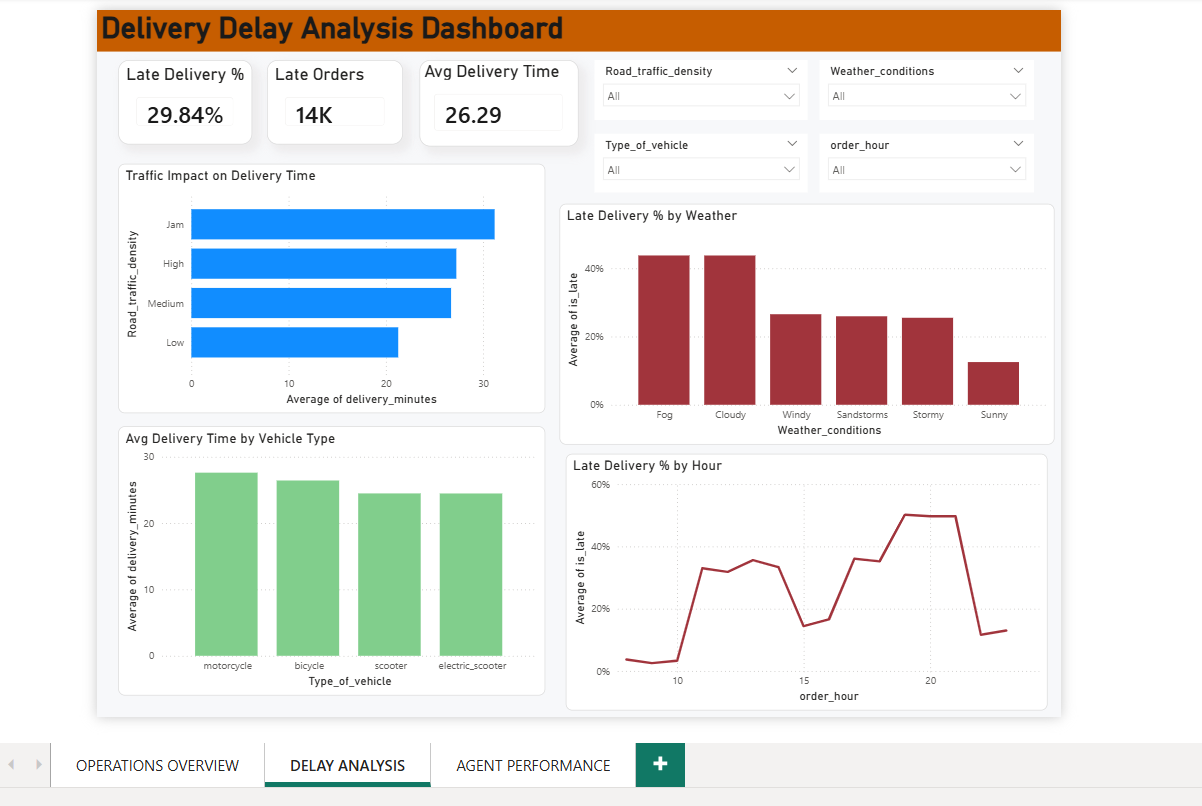

Layout of this report page (visuals, bound fields, positions):
{"tool":"powerbi","page":{"name":"DELAY ANALYSIS","canvas":[1168,857],"ordinal":1},"visuals":[{"type":"textbox","title":"Delivery Delay Analysis Dashboard","box":[0,0,1252.5,50],"z":0},{"type":"cardVisual","title":"Late Orders","fields":{"Data":["newcsv3.Late Orders"]},"box":[206.2,61.2,165,102.5],"z":1000},{"type":"cardVisual","title":"Late Delivery %","fields":{"Data":["newcsv3.Late %"]},"box":[25,61.2,162.5,102.5],"z":2000},{"type":"cardVisual","title":"Avg Delivery Time","fields":{"Data":["Avg(newcsv3.delivery_minutes)"]},"box":[391.2,61.2,192.5,105],"z":3000},{"type":"clusteredBarChart","title":"Traffic Impact on Delivery Time","fields":{"Y":["Avg(newcsv3.delivery_minutes)"],"Category":["newcsv3.Road_traffic_density"]},"box":[25,186.2,517.5,302.5],"z":4000},{"type":"clusteredColumnChart","title":"Late Delivery % by Weather","fields":{"Category":["newcsv3.Weather_conditions"],"Y":["Avg(newcsv3.is_late)"]},"box":[560,235,600,291.7],"z":5000},{"type":"clusteredColumnChart","title":"Avg Delivery Time by Vehicle Type","fields":{"Y":["Avg(newcsv3.delivery_minutes)"],"Category":["newcsv3.Type_of_vehicle"]},"box":[25,505,517.5,326.2],"z":6000},{"type":"lineChart","title":"Late Delivery % by Hour","fields":{"Y":["Avg(newcsv3.is_late)"],"Category":["newcsv3.order_hour"]},"box":[568.8,537.5,583.8,311.2],"z":7000},{"type":"slicer","fields":{"Values":["newcsv3.Road_traffic_density"]},"box":[602.5,61.2,258.8,72.5],"z":8000},{"type":"slicer","fields":{"Values":["newcsv3.Weather_conditions"]},"box":[876.2,61.2,260,72.5],"z":9000},{"type":"slicer","fields":{"Values":["newcsv3.Type_of_vehicle"]},"box":[602.5,150,258.8,71.2],"z":10000},{"type":"slicer","fields":{"Values":["newcsv3.order_hour"]},"box":[876.2,150,260,71.2],"z":11000}]}

Visuals, with their boxes on the page's 1168x857 design canvas (x1, y1, x2, y2). These are canvas units, not pixel positions in the 1202x806 screenshot, which may show the page scaled, cropped or inside an application window:
"Delivery Delay Analysis Dashboard" textbox: crop(0, 0, 1252, 50)
"Late Orders" cardVisual: crop(206, 61, 371, 164)
"Late Delivery %" cardVisual: crop(25, 61, 188, 164)
"Avg Delivery Time" cardVisual: crop(391, 61, 584, 166)
"Traffic Impact on Delivery Time" clusteredBarChart: crop(25, 186, 542, 489)
"Late Delivery % by Weather" clusteredColumnChart: crop(560, 235, 1160, 527)
"Avg Delivery Time by Vehicle Type" clusteredColumnChart: crop(25, 505, 542, 831)
"Late Delivery % by Hour" lineChart: crop(569, 538, 1153, 849)
slicer - newcsv3.Road_traffic_density: crop(602, 61, 861, 134)
slicer - newcsv3.Weather_conditions: crop(876, 61, 1136, 134)
slicer - newcsv3.Type_of_vehicle: crop(602, 150, 861, 221)
slicer - newcsv3.order_hour: crop(876, 150, 1136, 221)
